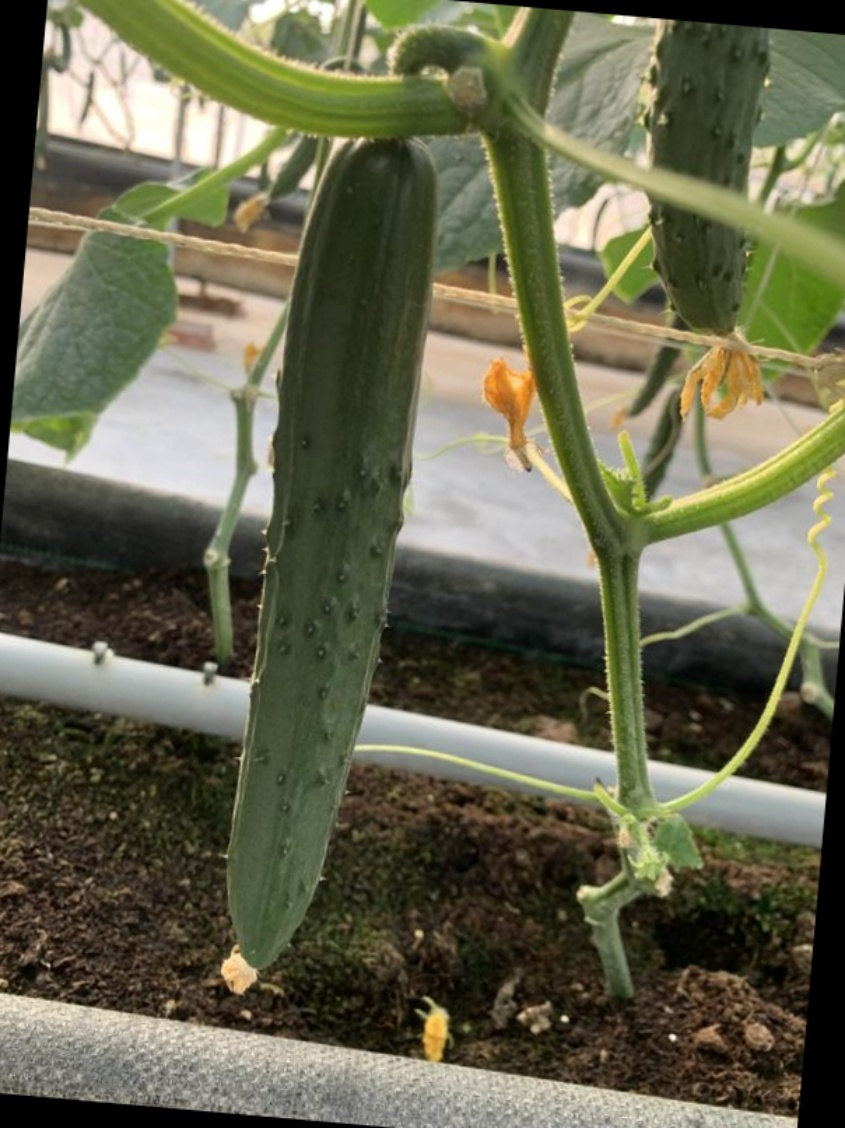mature: (196, 246, 455, 963)
